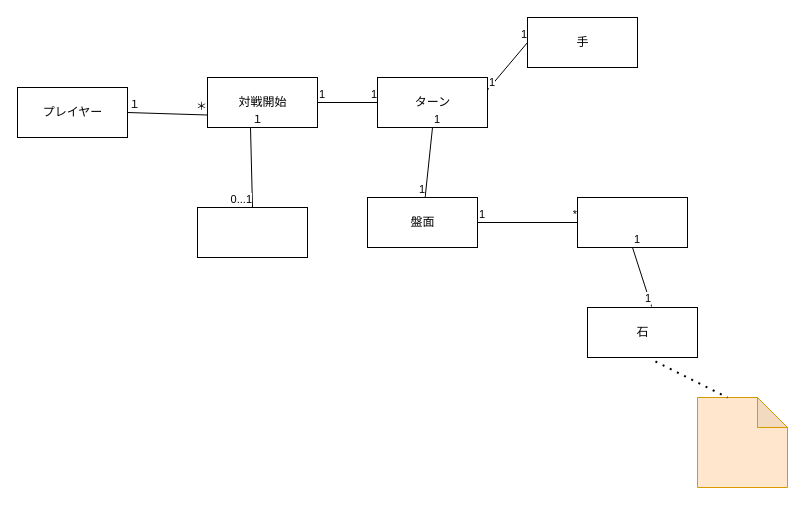
Some shapes in this 805 by 505 pixel diagram are drawn without their labels. The centre of each missing label's shape, as x and y in pixels:
マス目: point 632,222
対戦結果: point 252,232
石の種類 ・空 ・黒 ・白: point 742,442
